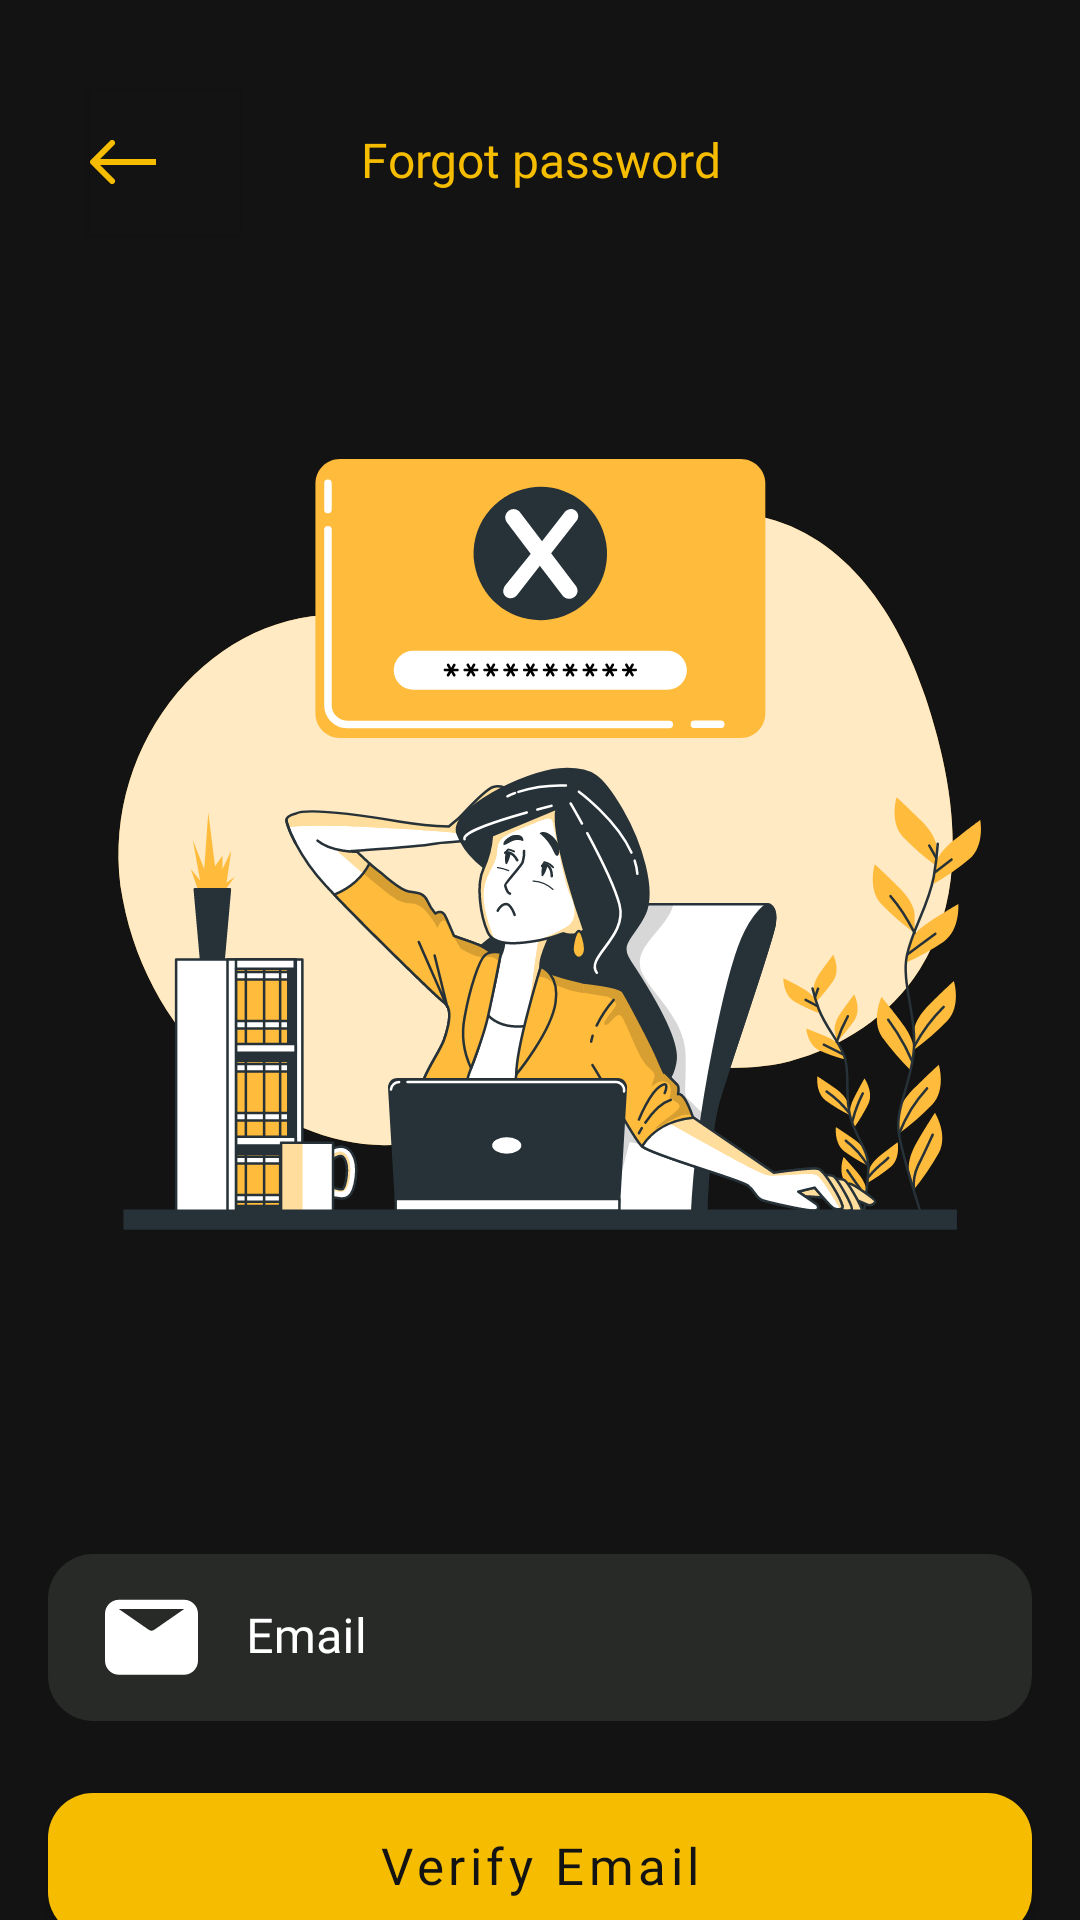

Named icons in this screenshot (1080×1920) and their bounding boxes, (x1, y1, x2, y2):
back: (90, 140, 156, 184)
